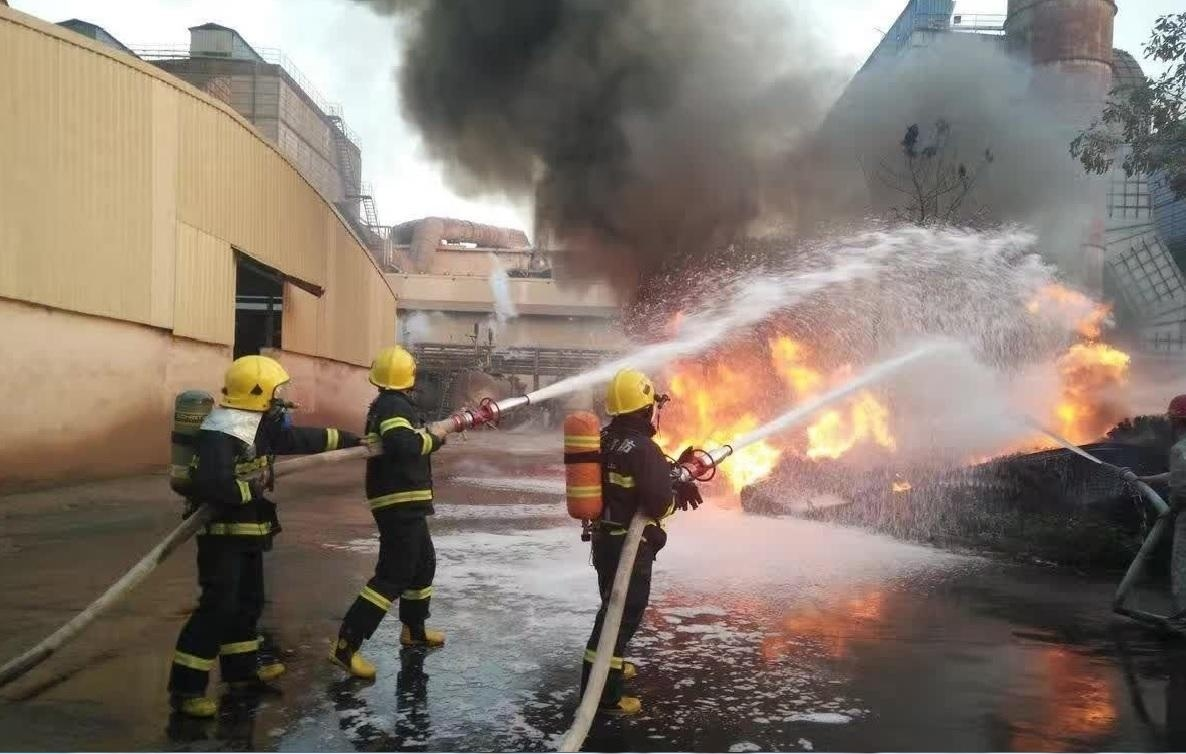fire: (651, 325, 899, 490), (1041, 286, 1129, 444)
